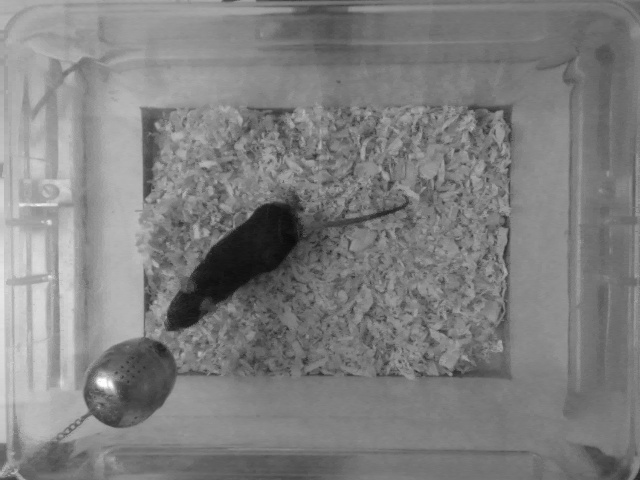mice: (164, 177, 417, 336)
